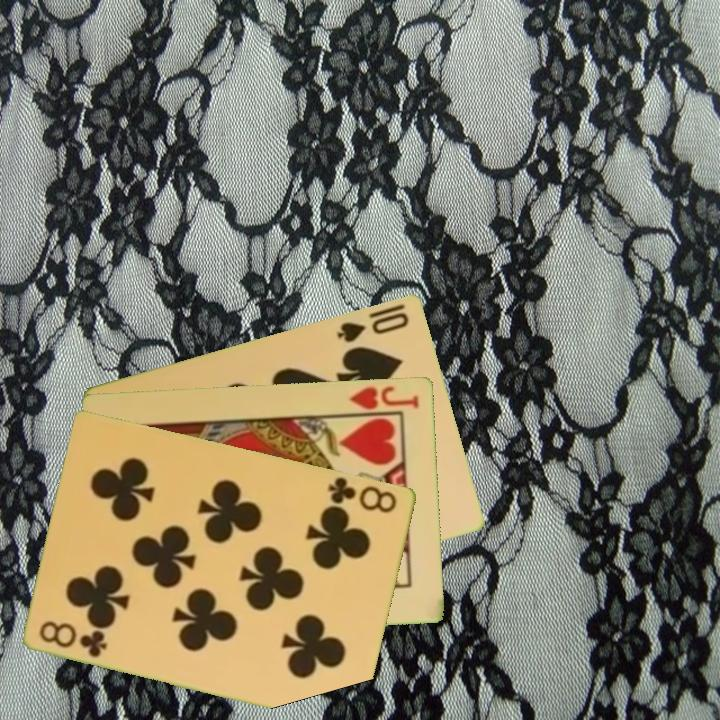10s: (334, 308, 412, 345)
8c: (325, 473, 400, 516), (36, 617, 111, 660)
Jh: (340, 382, 422, 418)
